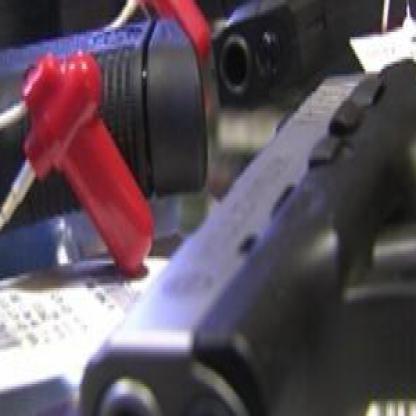gun: (61, 22, 415, 414), (0, 0, 218, 414), (201, 0, 415, 158)
